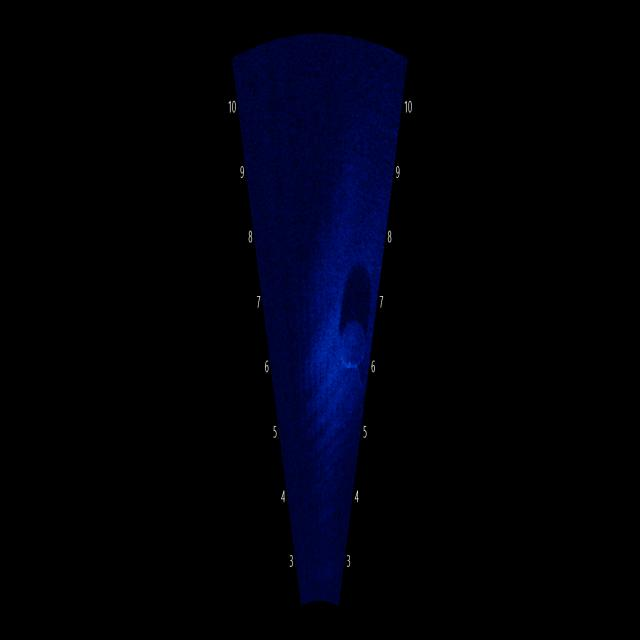circle: (332, 296, 375, 382)
